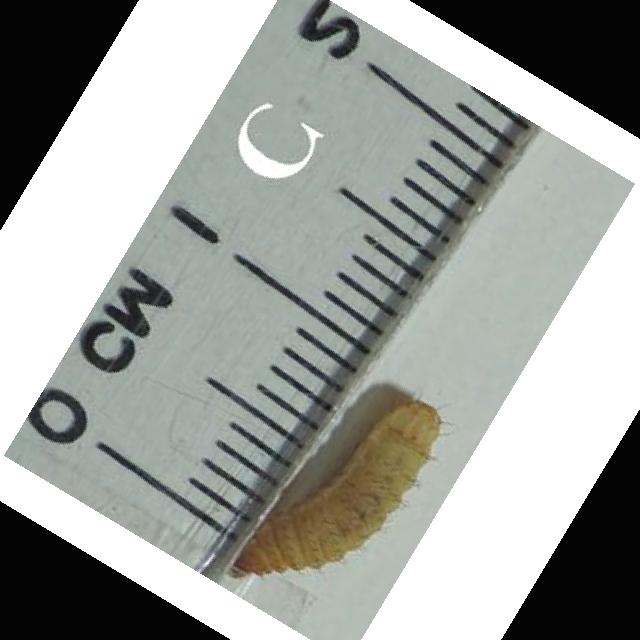Maggot: (227, 398, 445, 587)
